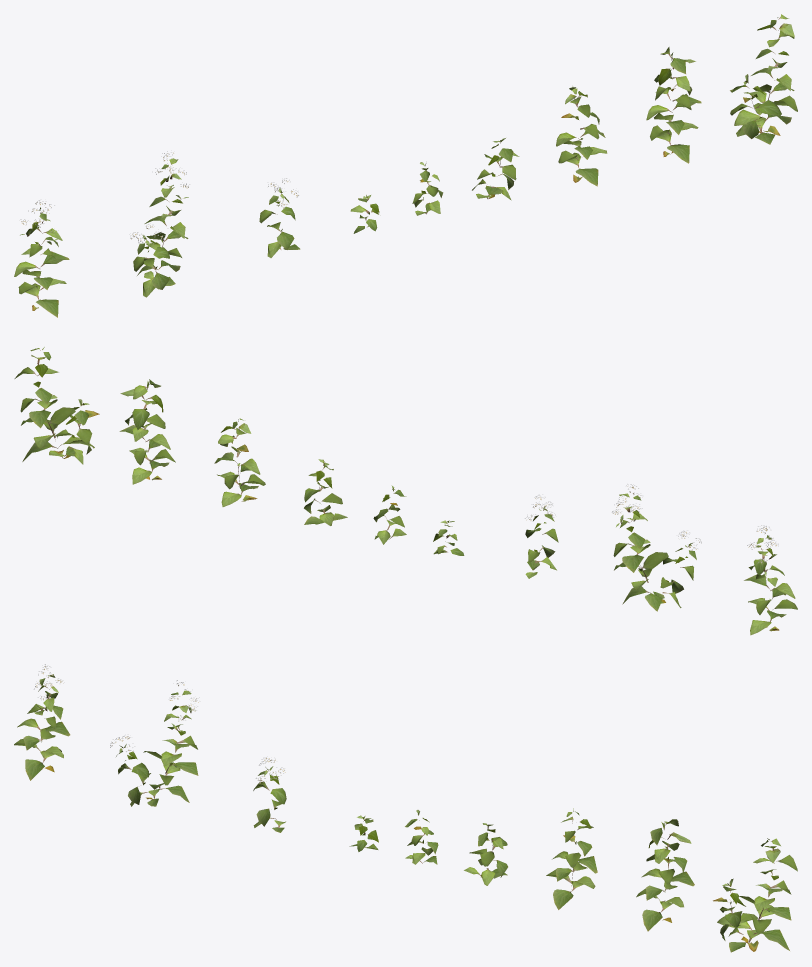
Rendered from shrub_01.glb.
3 renders of one model, top to bottom at view 1: azimuth 30°, elevation 25°; view 2: azimuth 150°, elevation 25°; view 3: azimuth 330°, elevation 25°, orthographic. The views are drawn at different scales.
Visible parts, largest first — view 1: shrub_01_a; view 2: shrub_01_a; view 3: shrub_01_a.
Part boxes in pixels (<box>): shrub_01_a: <box>14,14,797,317</box>; shrub_01_a: <box>14,347,797,635</box>; shrub_01_a: <box>14,664,797,952</box>.
Bounding box in the file's own units: 2.59 × 0.3994 × 0.2224.
1 material, 1 textured.
